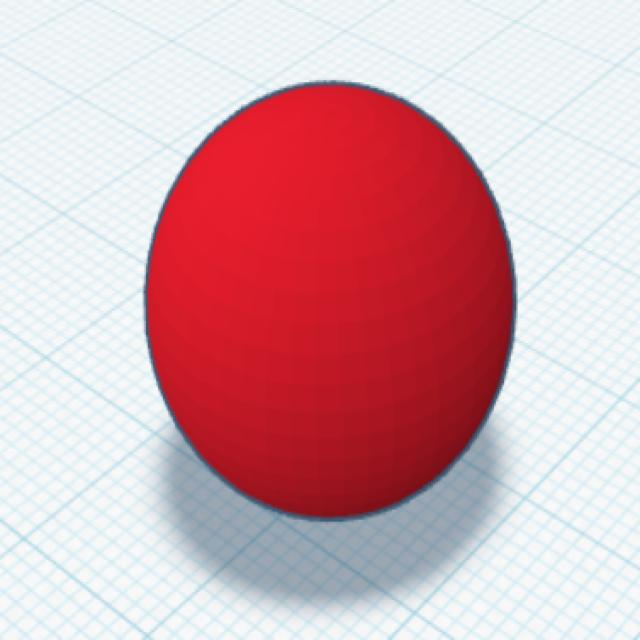sphere: (138, 76, 522, 526)
